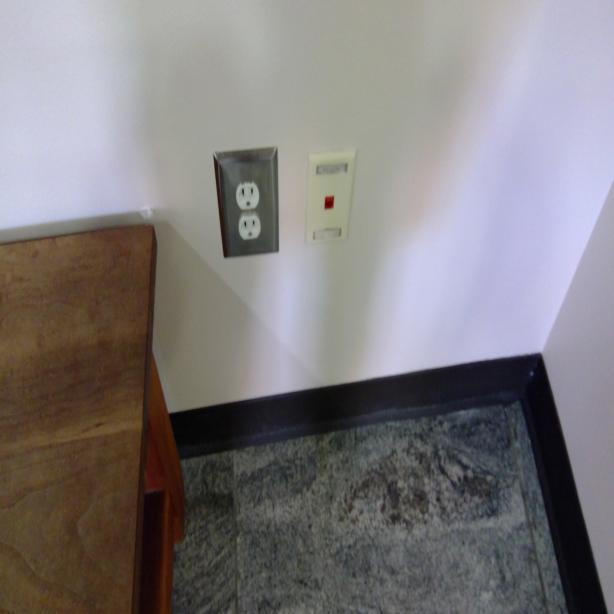typeb: (239, 215, 262, 244), (237, 182, 259, 212)
